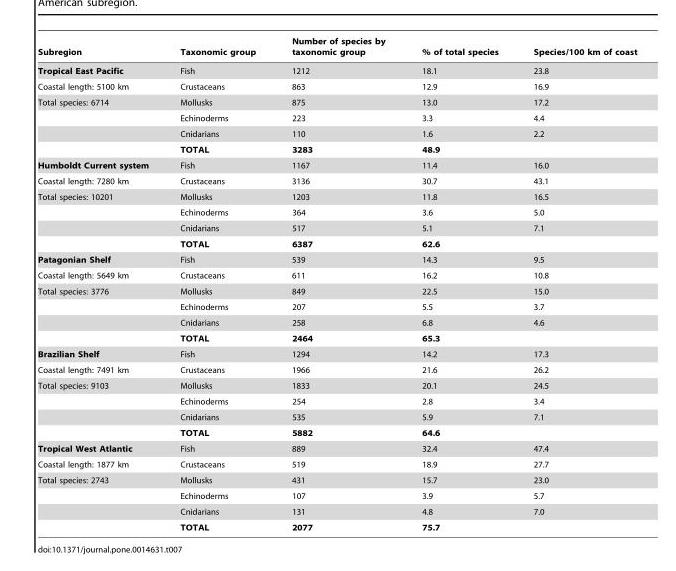table: (37, 36, 636, 531)
table column: (273, 36, 402, 531), (37, 36, 163, 531), (515, 36, 636, 531), (402, 36, 515, 531), (163, 36, 273, 531)
table column header: (37, 36, 636, 61)
table row: (37, 36, 636, 61), (37, 61, 636, 78), (37, 78, 636, 94), (37, 94, 636, 110), (37, 125, 636, 141), (37, 141, 636, 157), (37, 157, 636, 173), (37, 188, 636, 204), (37, 204, 636, 220), (37, 220, 636, 236), (37, 251, 636, 267), (37, 267, 636, 283), (37, 298, 636, 314), (37, 314, 636, 330), (37, 330, 636, 346), (37, 361, 636, 377), (37, 377, 636, 393), (37, 393, 636, 409), (37, 424, 636, 440), (37, 440, 636, 456), (37, 456, 636, 472), (37, 487, 636, 503), (37, 503, 636, 519), (37, 110, 636, 125), (37, 173, 636, 188), (37, 236, 636, 251), (37, 283, 636, 298), (37, 346, 636, 361), (37, 409, 636, 424), (37, 472, 636, 487), (37, 519, 636, 531)
table spanning cell: (37, 94, 163, 157), (37, 188, 163, 251), (37, 283, 163, 346), (37, 377, 163, 440), (37, 472, 163, 531)
